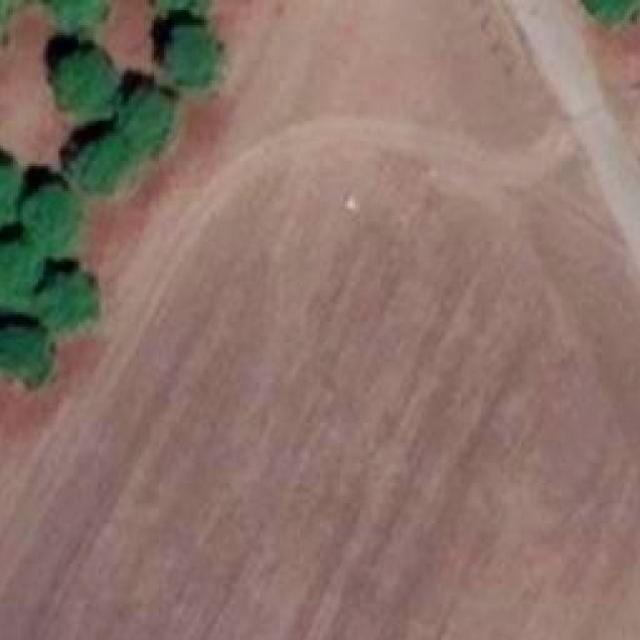Tree: (28, 272, 105, 340), (56, 50, 127, 123), (21, 184, 100, 249), (161, 20, 227, 85), (78, 128, 140, 193), (0, 319, 54, 390), (124, 88, 179, 150), (0, 242, 39, 322), (53, 0, 110, 35), (0, 159, 19, 236), (156, 0, 206, 17)
